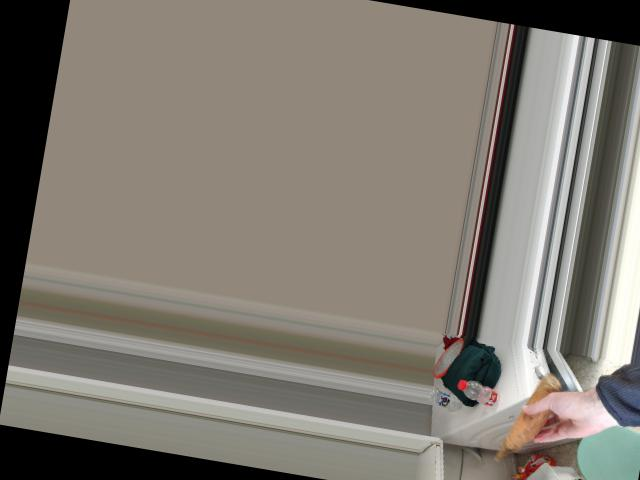sweet_potato: (503, 374, 560, 447)
